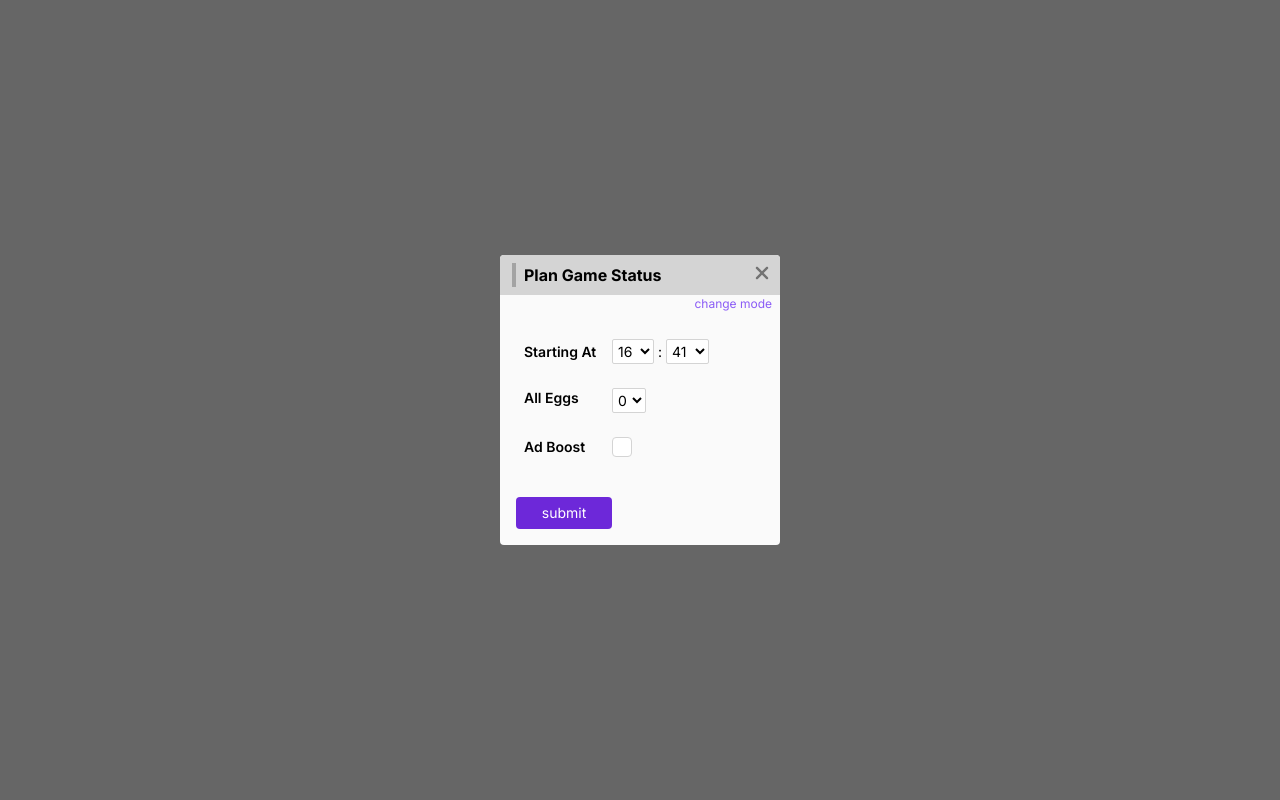
StatusForm › changes display to mode picker when change mode button is clicked
Check: the text "Select input mode" is not shown
Click the button "change mode" at (733, 305), box [690,296,776,314]
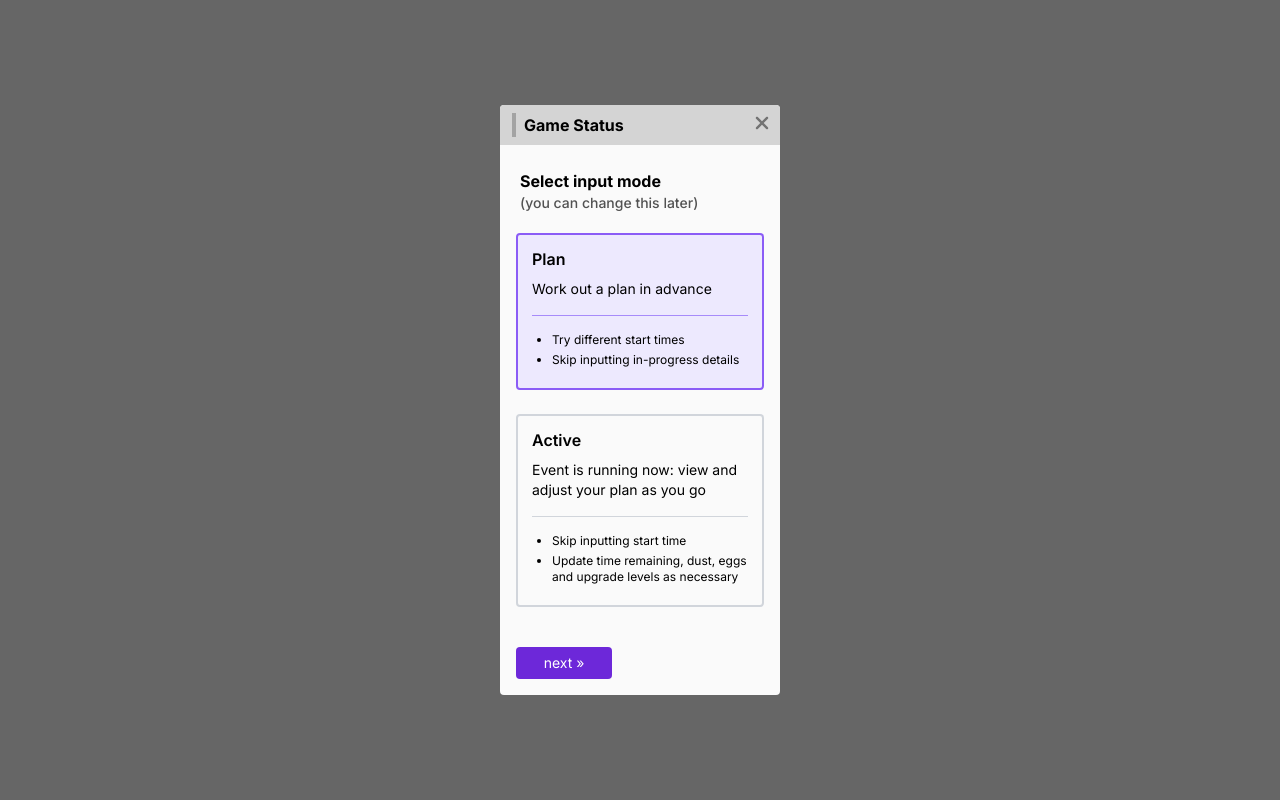
Check: the text "Select input mode" is shown, box [520,171,661,191]
